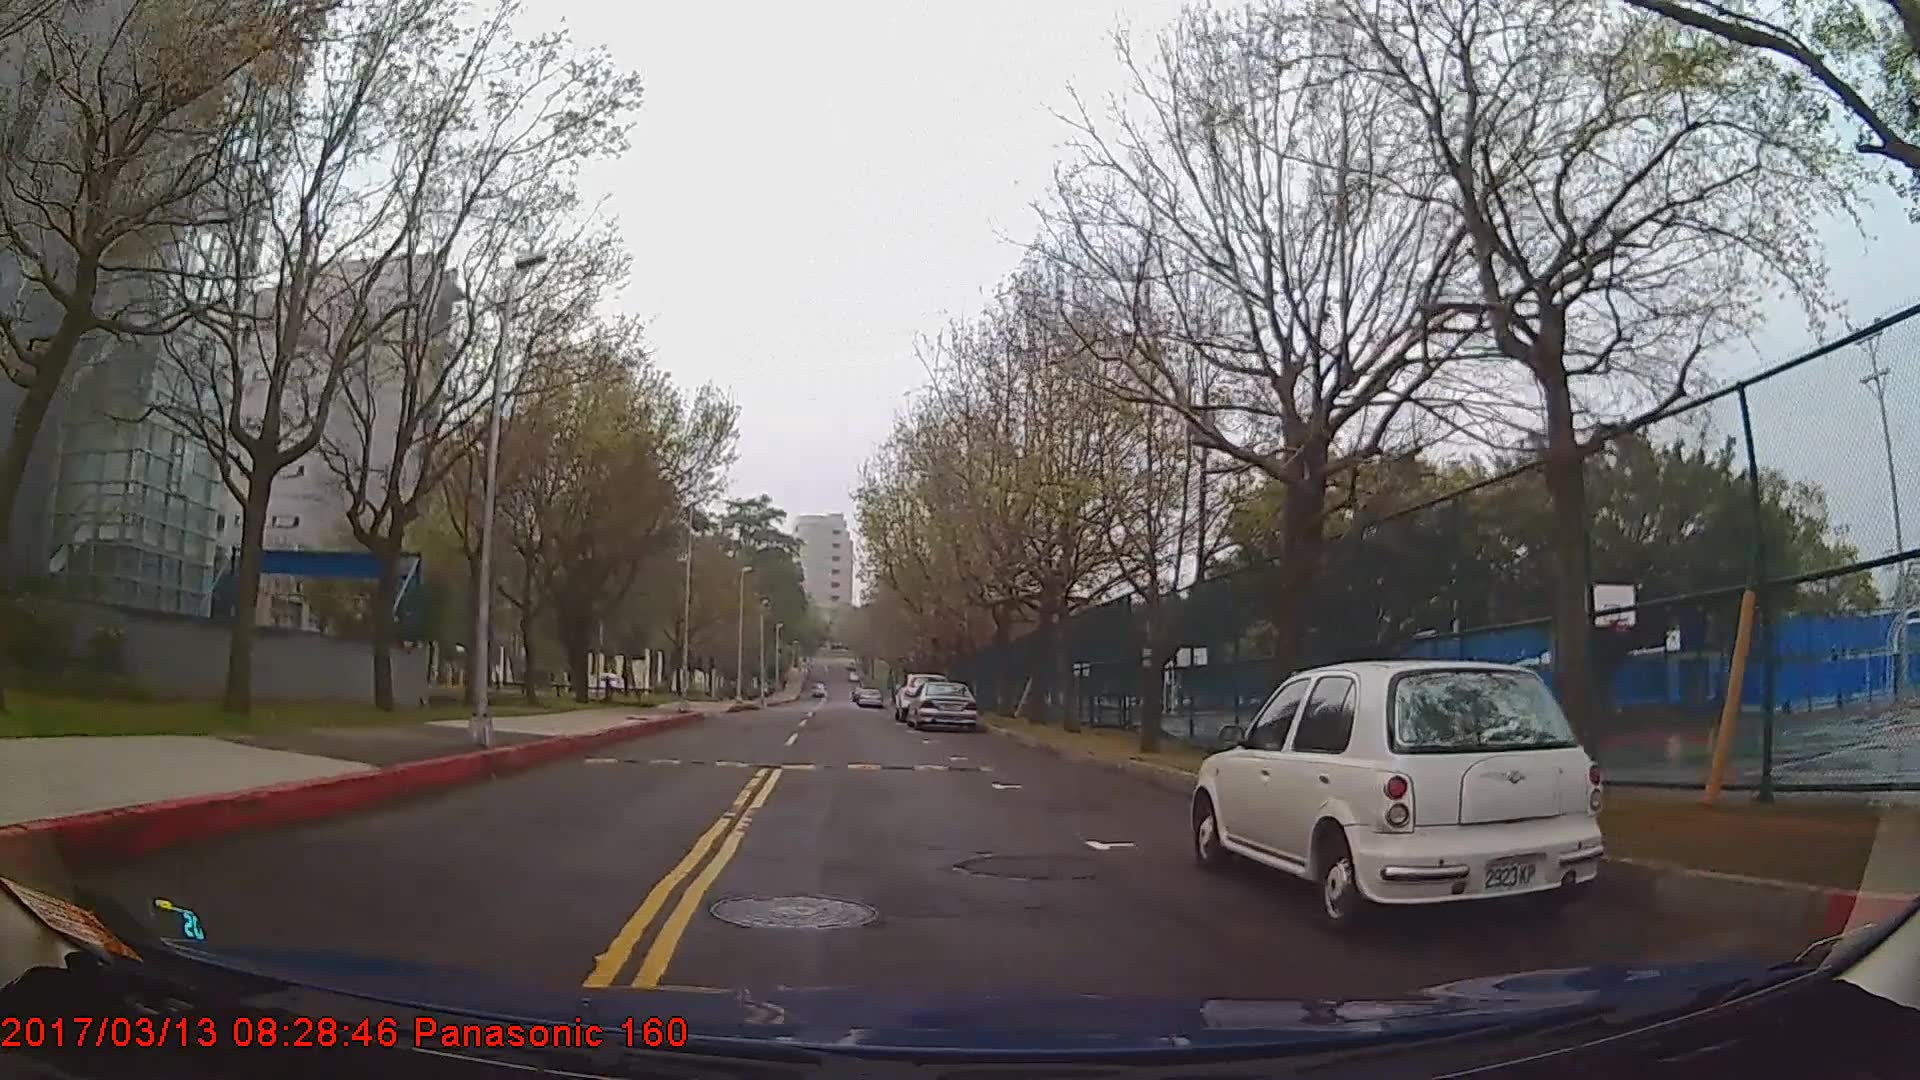vehicle: (1189, 655, 1609, 935), (907, 676, 980, 728)
